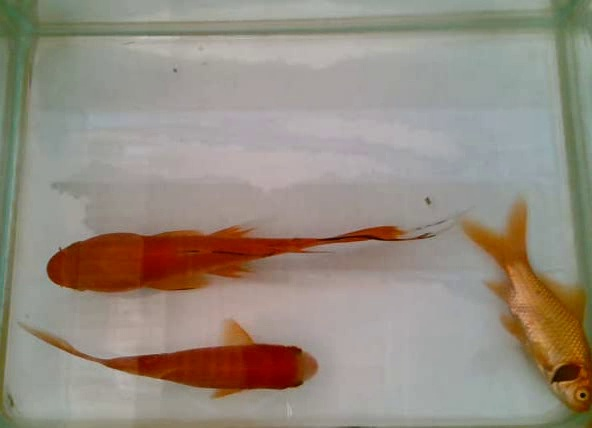alive_fish: (42, 206, 477, 297), (10, 313, 323, 406)
dead_fish: (456, 190, 592, 418)
